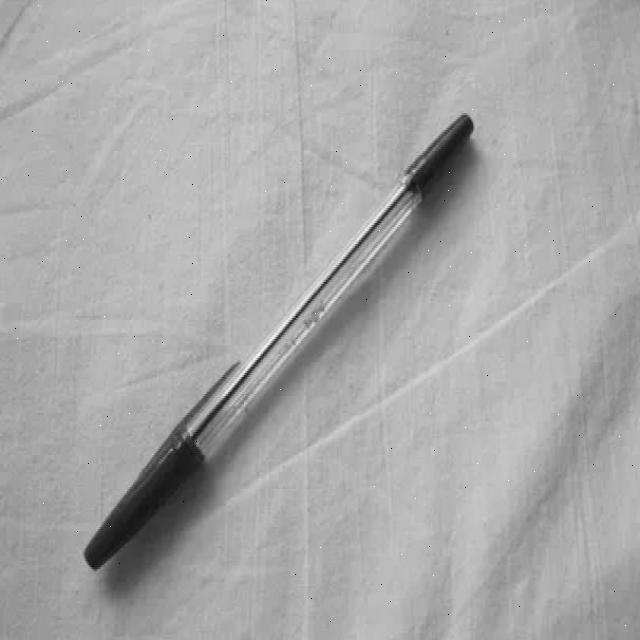pencil: (32, 103, 490, 589)
